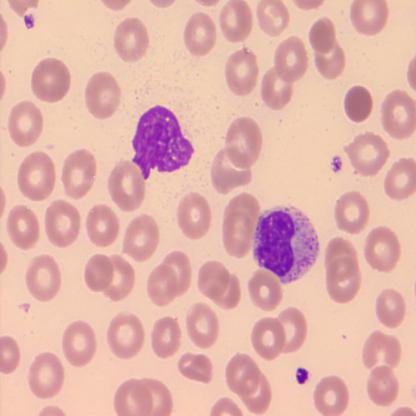Metamyelocyte: (251, 201, 322, 286)
